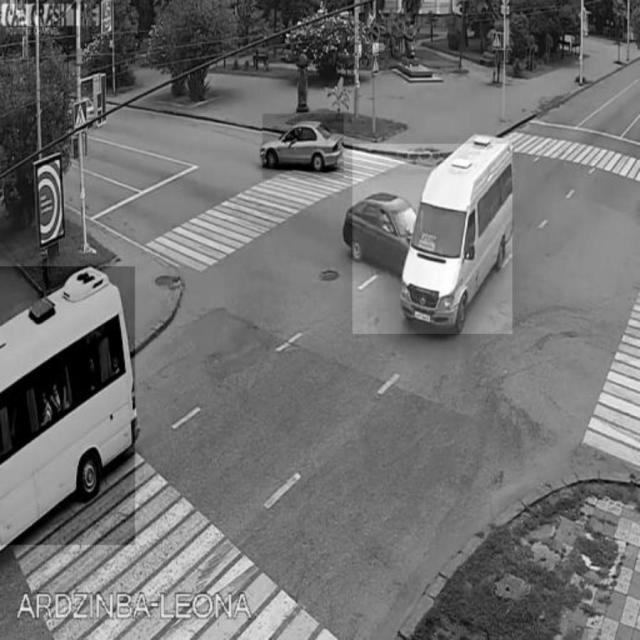accident: (352, 144, 512, 334)
vehicle: (0, 267, 134, 545), (263, 115, 344, 179)
